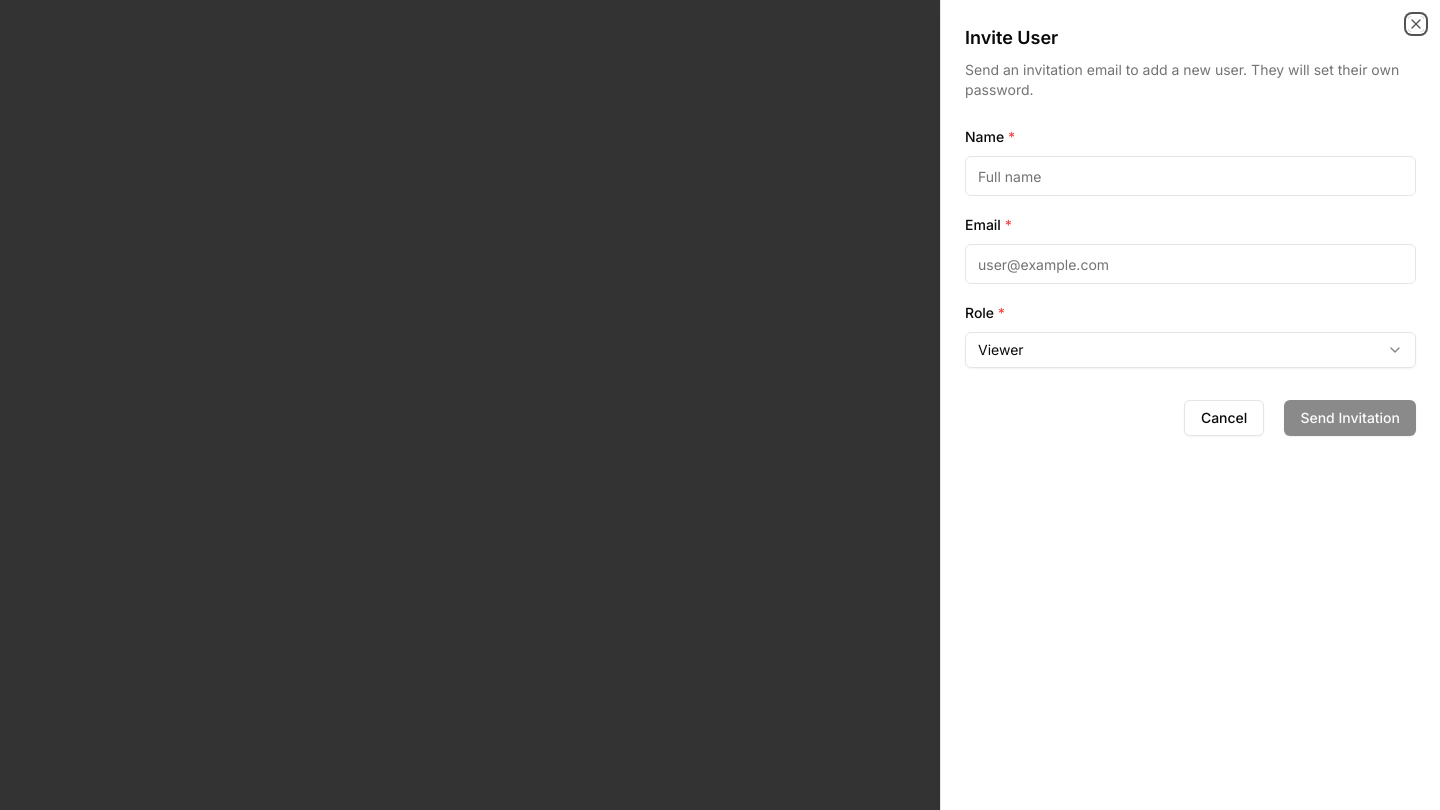
Test: AddMemberModal — Invite User (Story 13-1) › should show error for invalid email format
This screenshot has width=1440, height=810.
Type "not-an-email" into the field with test id "email-input" at x=1190, y=264, box [965,244,1416,284]
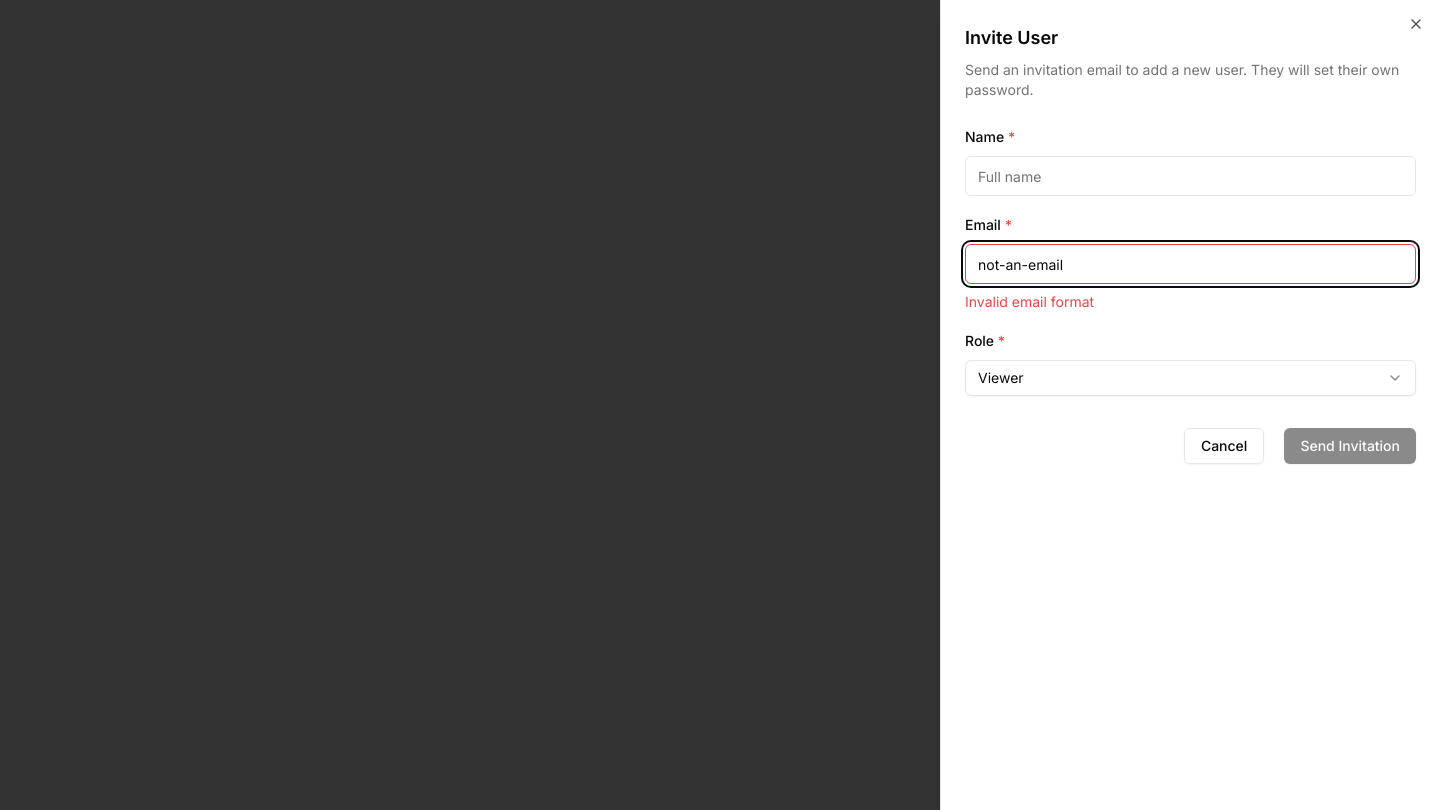
Expected: the text with test id "email-error" shows "Invalid email", [965,293,1094,310]
